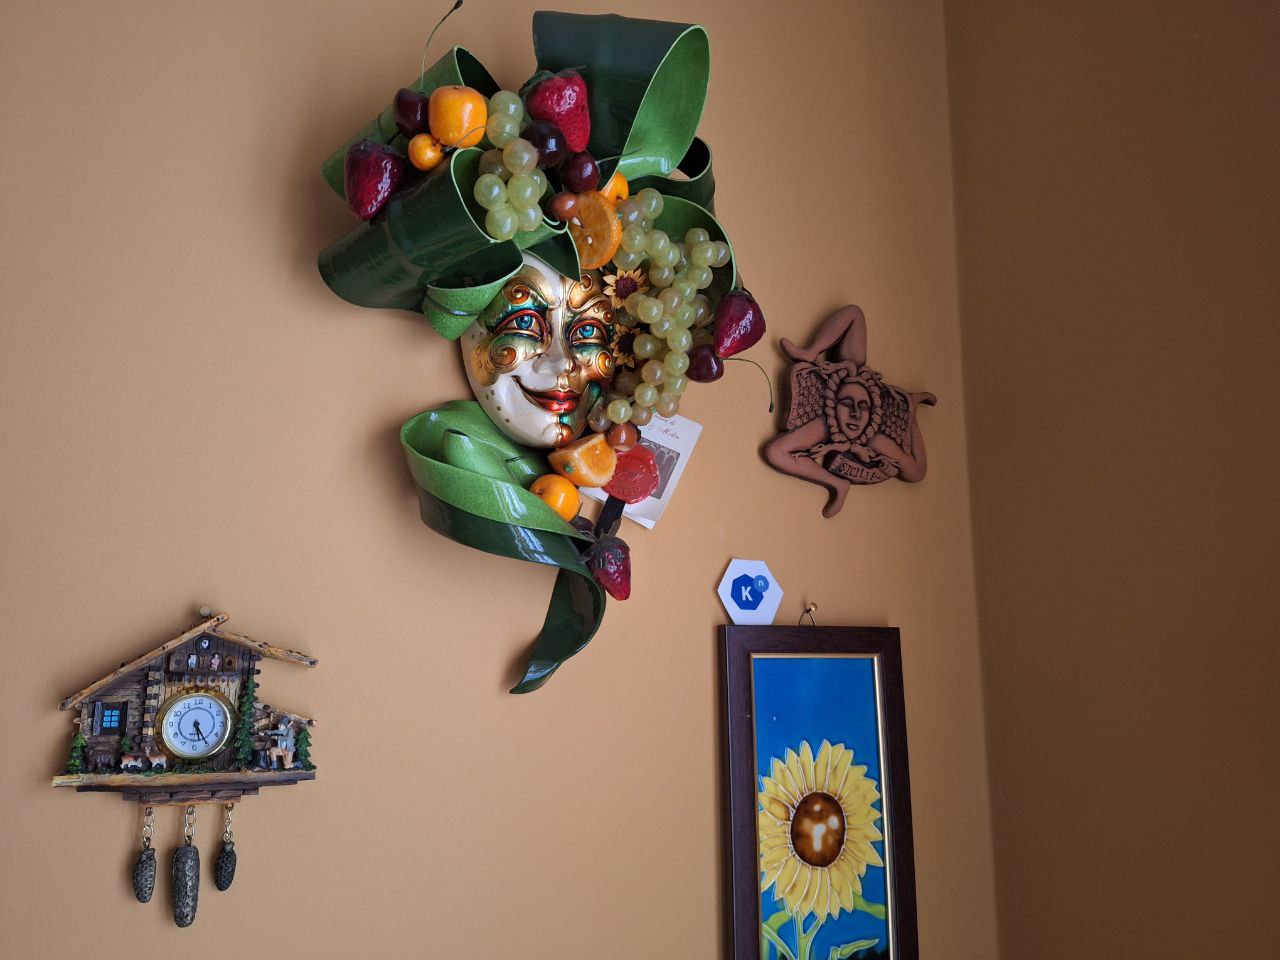knative: (731, 569, 770, 612)
